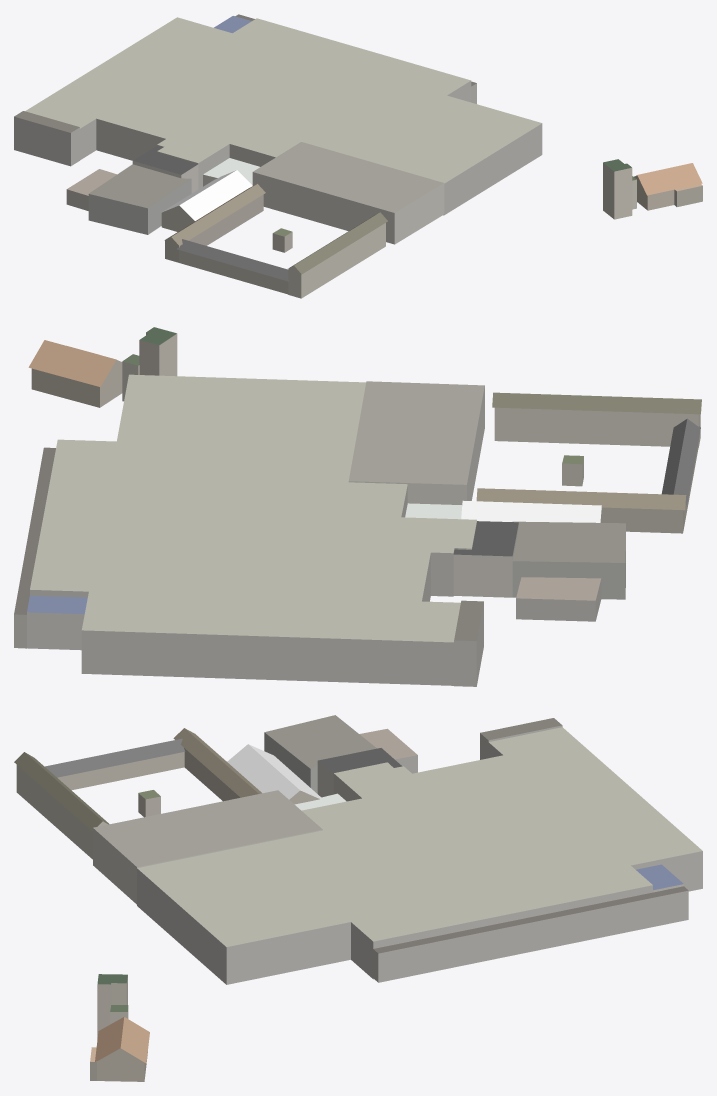
3 views of the same model, one above another, from view 1: azimuth 30°, elevation 25°; view 2: azimuth 150°, elevation 25°; view 3: azimuth 270°, elevation 25° (orthographic). The views are drawn at different scales.
Visible parts, largest first — view 1: tuile; view 2: tuile; view 3: tuile.
Boxes of the visible parts, x1,y1,x2,y2 form: tuile: (14,14,702,298); tuile: (14,327,701,686); tuile: (14,715,702,1081).
Size of the model in its own units: 124 by 14.51 by 120.
